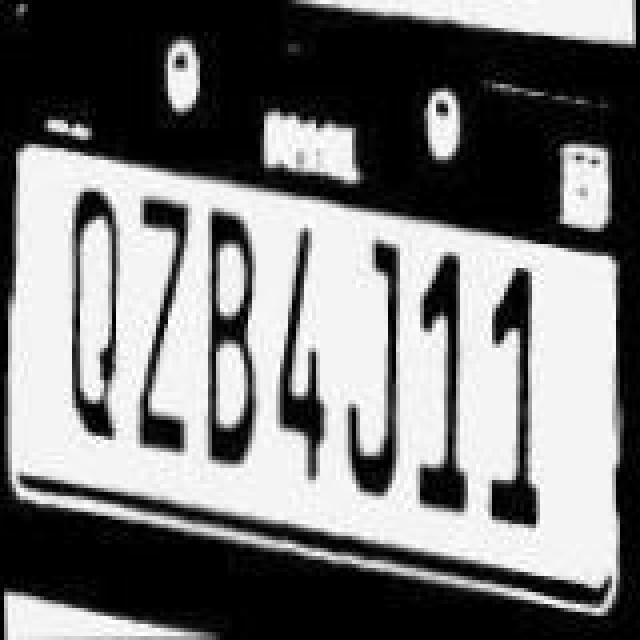1: (480, 268, 548, 536), (412, 254, 480, 514)
4: (264, 226, 344, 482)
B: (192, 208, 264, 464)
J: (330, 234, 406, 498)
Q: (58, 190, 134, 442)
Z: (124, 208, 196, 468)
